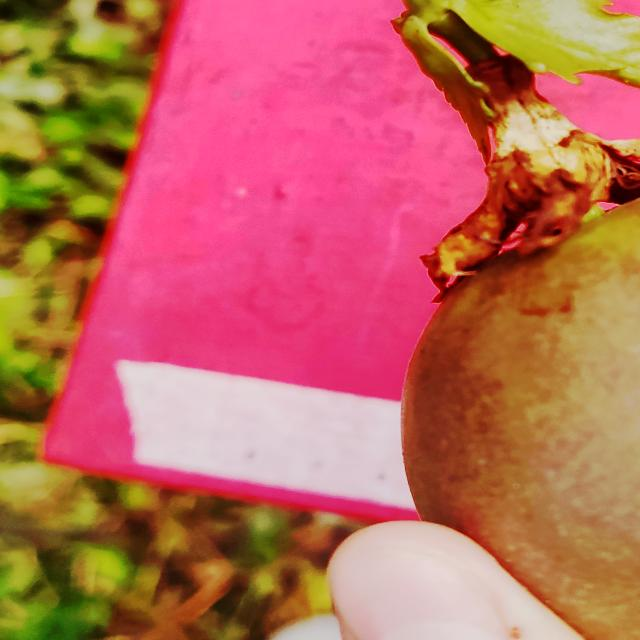Estado-2: (394, 0, 640, 640)
